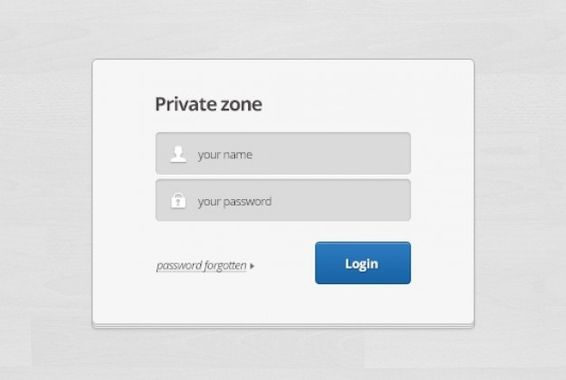button: (312, 241, 413, 286)
field: (154, 130, 414, 177), (154, 176, 414, 223)
